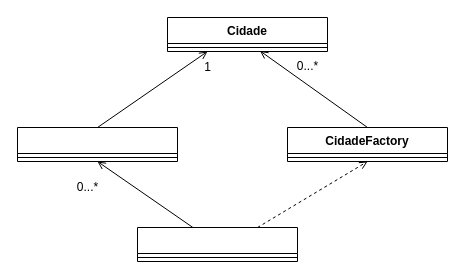
Some shapes in this 465 by 279 pixel diagram are drawn without their labels. Each missing label, with the centre of its shape:
Faculdade: the point at 217,244
Professor: the point at 97,144
